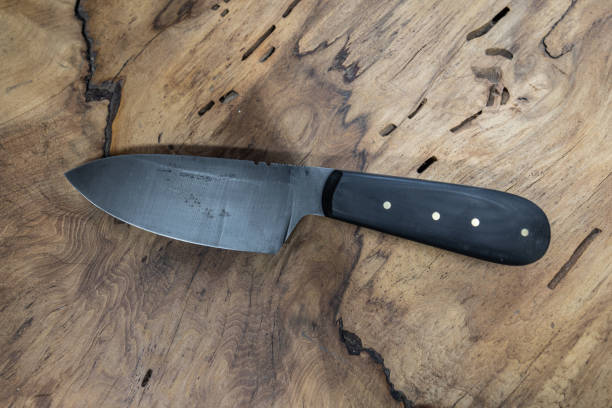knife: (62, 150, 552, 268)
